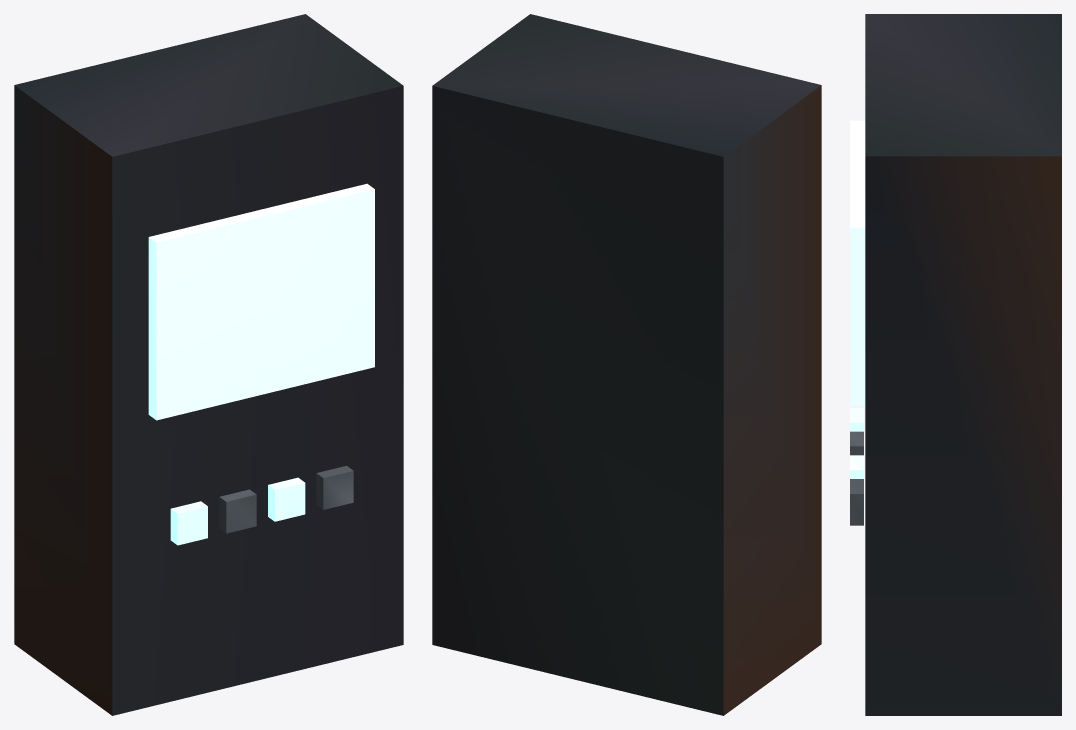
Rendered from console_tall.glb.
The picture shows the model from 3 angles, left to right: view 1: azimuth 30°, elevation 25°; view 2: azimuth 150°, elevation 25°; view 3: azimuth 270°, elevation 25°; orthographic projection.
Parts seen in each view (by area): view 1: console_tall; view 2: console_tall; view 3: console_tall.
Part boxes in pixels (left/top/right/bottom): console_tall: left=14, top=14, right=403, bottom=715; console_tall: left=432, top=14, right=821, bottom=715; console_tall: left=850, top=14, right=1061, bottom=715.
Bounding box in the file's own units: 24 × 44 × 15.1.
